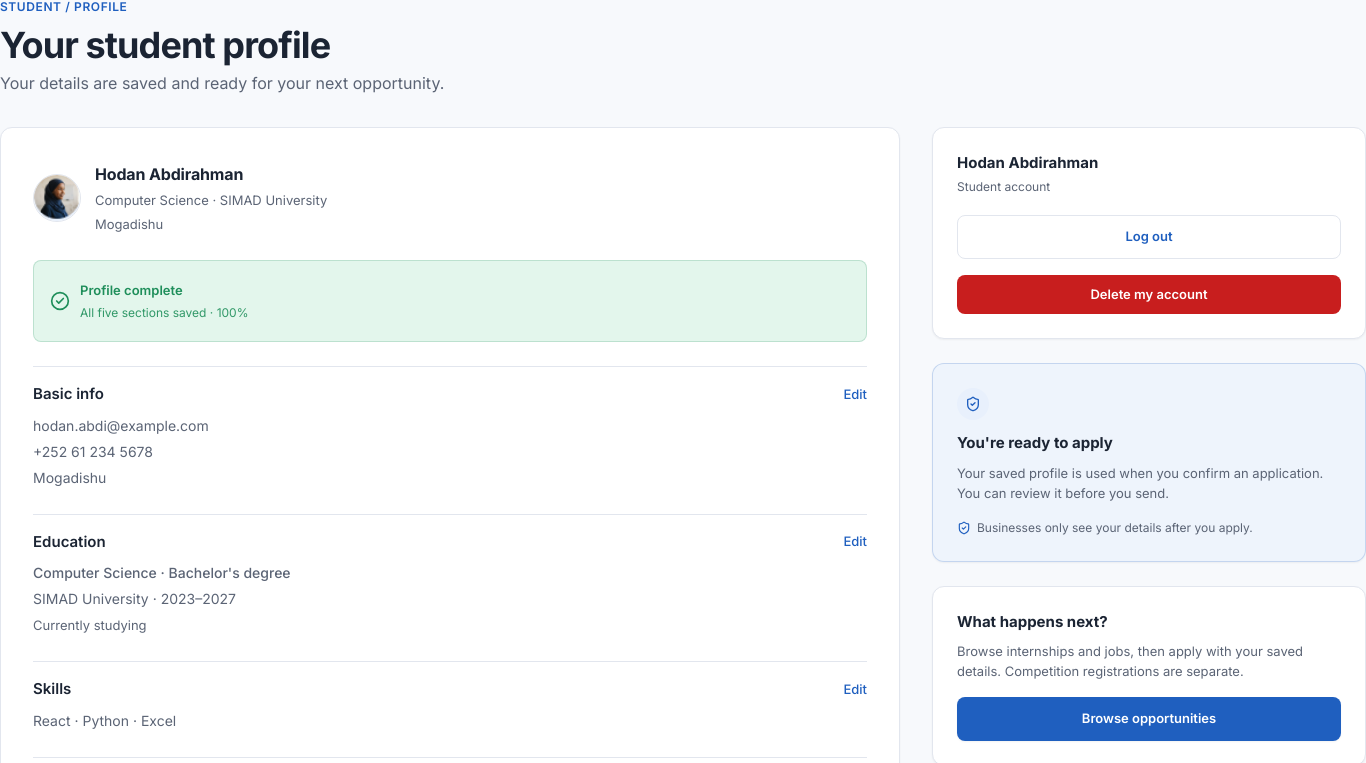
Test case: Student Workspace — Phase 7 Suite › Student Profile › switches to Edit mode when clicking Edit and allows cancelling
Check: the heading "Your student profile" is shown, box [0,23,330,67]
# Click Edit profile button
What coordinates should you click on to do the following:
click the button "Edit" in the row of "Basic info"
I would click on:
 (855, 394)
Its box is [843,384,867,404].
(page scrolled)
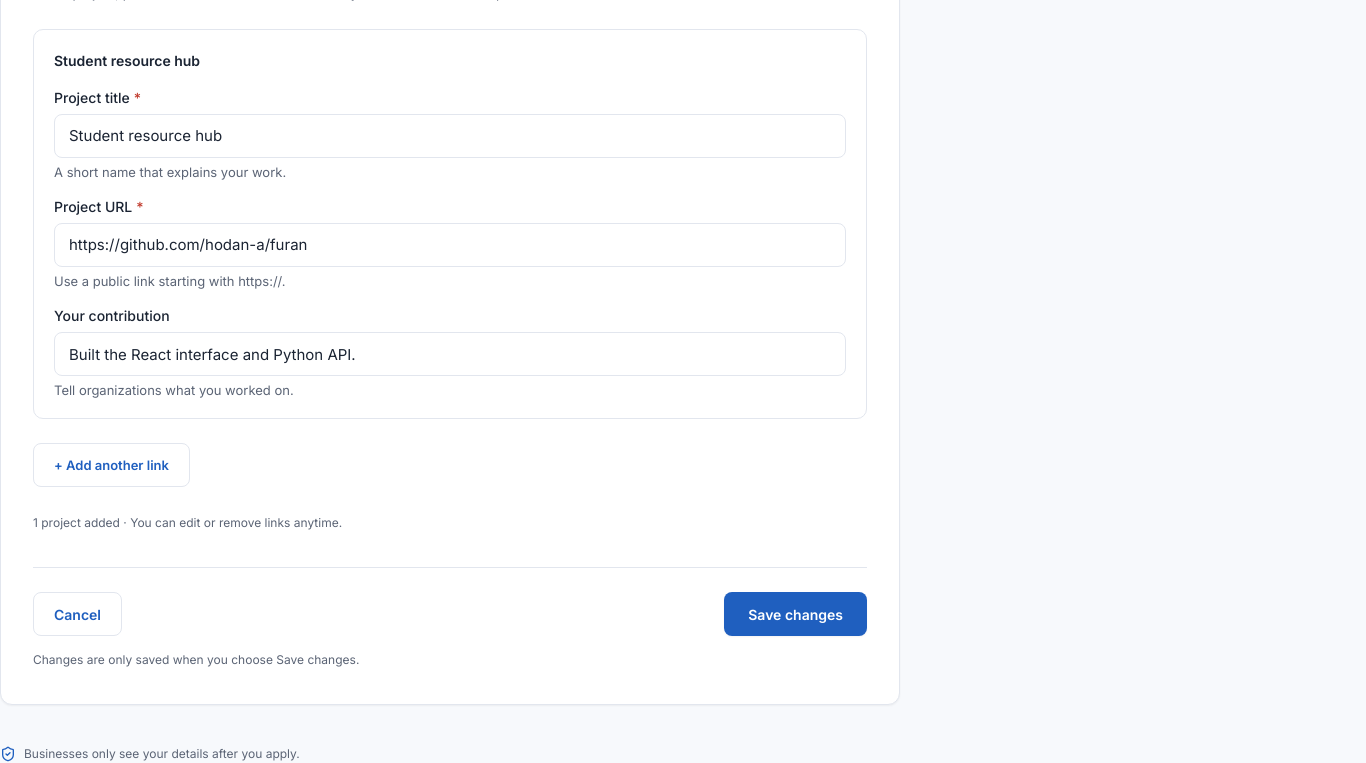
Check: the button "Save changes" is shown, box [724,592,867,636]
# Click Cancel
What coordinates should you click on to do the following:
click the button "Cancel"
I would click on:
 (78, 614)
Its box is [33,592,122,636].
(page scrolled)
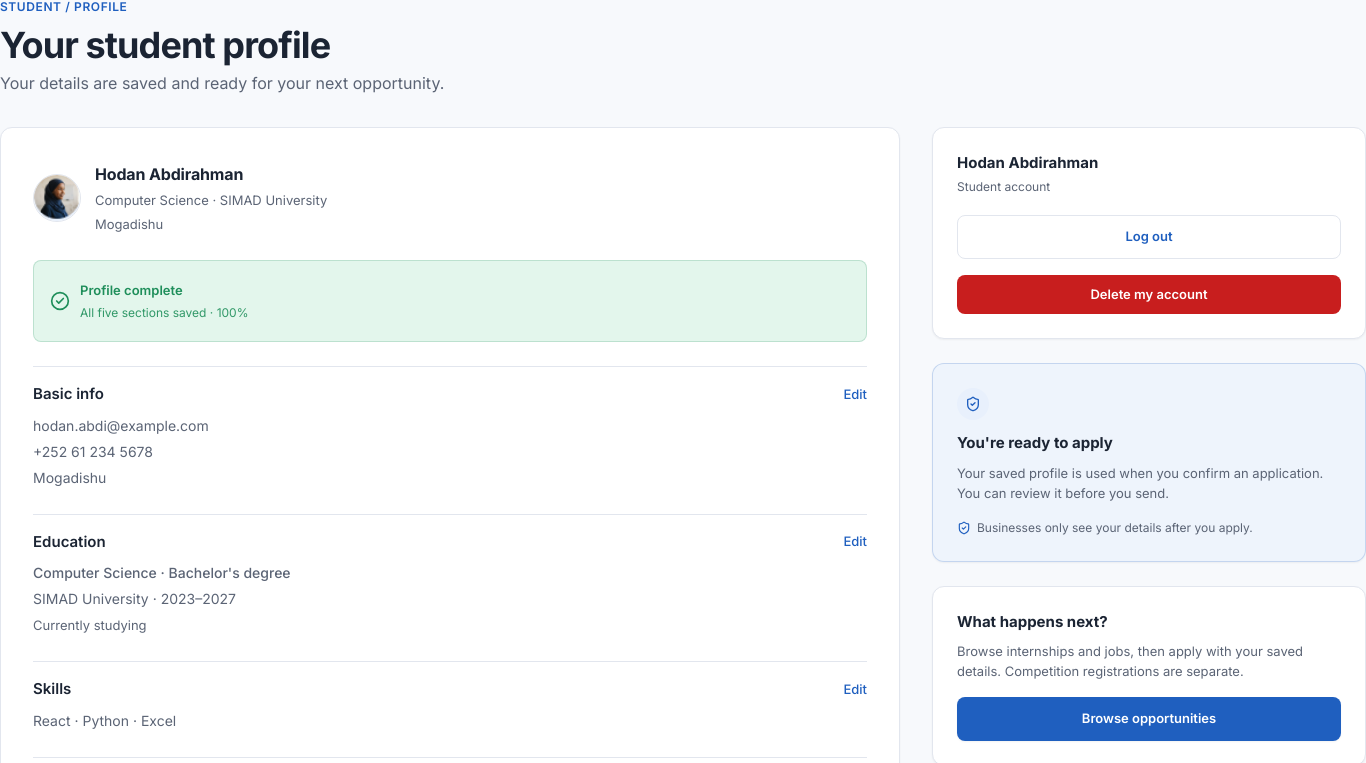
Check: the heading "Your student profile" is shown, box [0,23,330,67]
